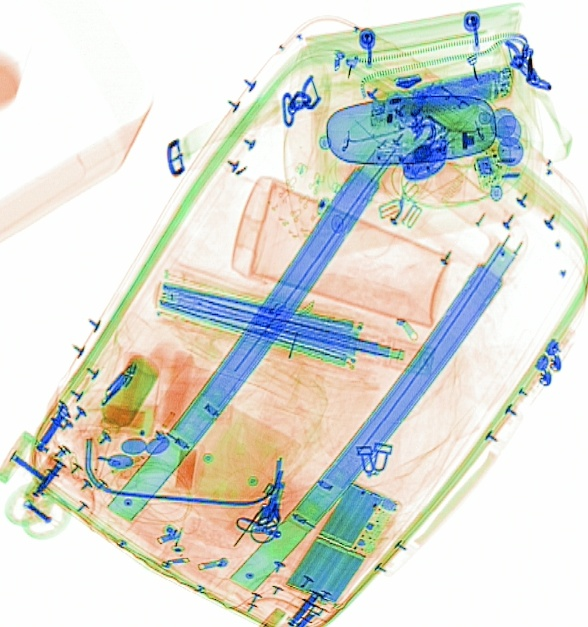powerbank: (283, 480, 404, 609)
